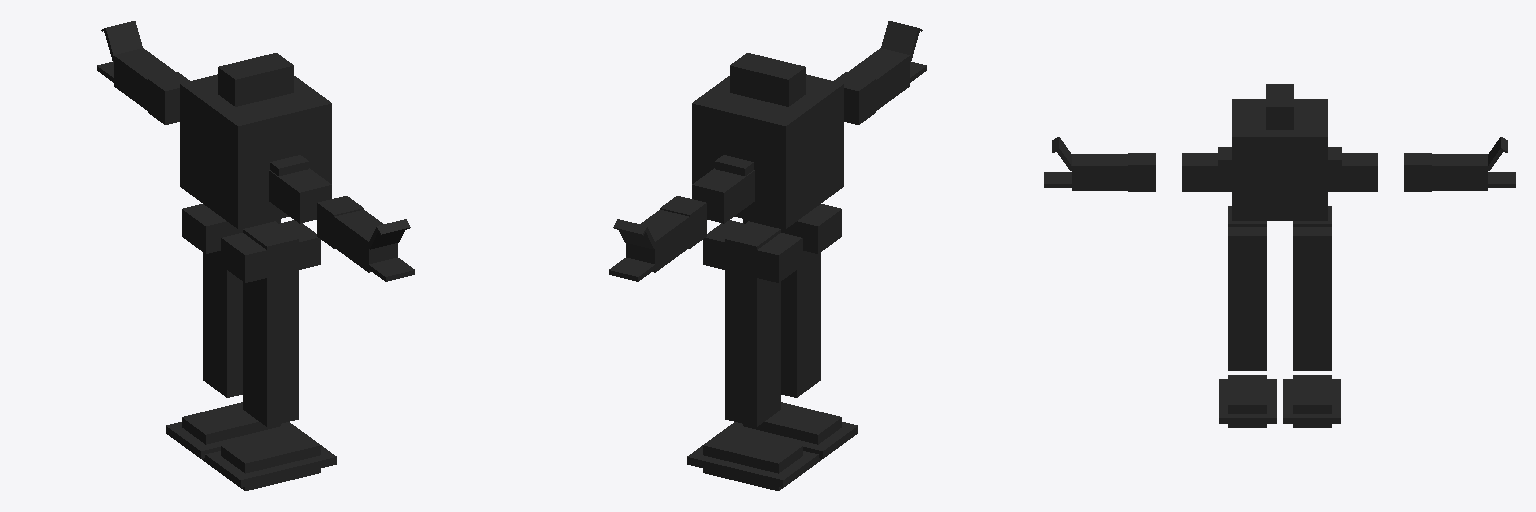
--- Render facts (derived) ---
The picture shows the robot from 3 angles, left to right: view 1: azimuth 30°, elevation 25°; view 2: azimuth 150°, elevation 25°; view 3: azimuth 270°, elevation 25°; orthographic projection.
Model automi with 31 links and 30 joints (24 revolute, 6 fixed), rooted at base_link, posed every joint at zero.
Links seen in each view (by area): view 1: MP_BODY, MP_TIBIA_R, MP_THIGH2_R, MP_TIBIA_L, MP_PELVIS_R, MP_ANKLE1_R, MP_HEAD, MP_ARM_HIGH_R, MP_ARM_GRIPPER_FIX_R, MP_ANKLE1_L, MP_ARM_GRIPPER_FIX_L, MP_ANKLE2_R (+9 smaller); view 2: MP_BODY, MP_TIBIA_L, MP_THIGH2_L, MP_TIBIA_R, MP_PELVIS_L, MP_ANKLE1_L, MP_HEAD, MP_ARM_HIGH_L, MP_ARM_GRIPPER_FIX_L, MP_ANKLE1_R, MP_ARM_GRIPPER_FIX_R, MP_ANKLE2_L (+9 smaller); view 3: MP_BODY, MP_TIBIA_L, MP_TIBIA_R, MP_ARM_GRIPPER_FIX_R, MP_ARM_GRIPPER_FIX_L, MP_THIGH2_L, MP_THIGH2_R, MP_ARM_HIGH_L, MP_ARM_HIGH_R, MP_ANKLE1_L, MP_ANKLE1_R, MP_HEAD (+6 smaller).
Link boxes in pixels (bbox=[...]): MP_BODY: bbox=[180, 74, 331, 228]; MP_TIBIA_R: bbox=[243, 320, 298, 426]; MP_THIGH2_R: bbox=[243, 221, 298, 336]; MP_TIBIA_L: bbox=[203, 291, 242, 397]; MP_PELVIS_R: bbox=[221, 220, 320, 282]; MP_ANKLE1_R: bbox=[221, 428, 320, 490]; MP_HEAD: bbox=[218, 53, 293, 106]; MP_ARM_HIGH_R: bbox=[269, 168, 331, 223]; MP_ARM_GRIPPER_FIX_R: bbox=[334, 210, 397, 272]; MP_ANKLE1_L: bbox=[182, 402, 280, 461]; MP_ARM_GRIPPER_FIX_L: bbox=[114, 48, 174, 110]; MP_ANKLE2_R: bbox=[205, 434, 336, 487]; MP_BODY: bbox=[692, 74, 843, 228]; MP_TIBIA_L: bbox=[725, 320, 780, 426]; MP_THIGH2_L: bbox=[725, 221, 780, 336]; MP_TIBIA_R: bbox=[781, 291, 820, 397]; MP_PELVIS_L: bbox=[703, 220, 802, 282]; MP_ANKLE1_L: bbox=[703, 428, 802, 490]; MP_HEAD: bbox=[730, 53, 805, 106]; MP_ARM_HIGH_L: bbox=[692, 168, 754, 223]; MP_ARM_GRIPPER_FIX_L: bbox=[626, 210, 689, 272]; MP_ANKLE1_R: bbox=[743, 402, 841, 461]; MP_ARM_GRIPPER_FIX_R: bbox=[849, 48, 909, 110]; MP_ANKLE2_L: bbox=[687, 434, 818, 487]; MP_BODY: bbox=[1232, 99, 1327, 220]; MP_TIBIA_L: bbox=[1293, 298, 1331, 370]; MP_TIBIA_R: bbox=[1228, 298, 1266, 370]; MP_ARM_GRIPPER_FIX_R: bbox=[1072, 154, 1127, 190]; MP_ARM_GRIPPER_FIX_L: bbox=[1432, 154, 1487, 190]; MP_THIGH2_L: bbox=[1293, 211, 1331, 297]; MP_THIGH2_R: bbox=[1228, 211, 1266, 297]; MP_ARM_HIGH_L: bbox=[1328, 153, 1377, 191]; MP_ARM_HIGH_R: bbox=[1182, 153, 1231, 191]; MP_ANKLE1_L: bbox=[1293, 375, 1331, 427]; MP_ANKLE1_R: bbox=[1228, 375, 1266, 427]; MP_HEAD: bbox=[1266, 84, 1293, 129].
Bounding box of the posed robot: 0.108 × 0.54 × 0.4037 m (x, y, z).
Geometry: primitives only (box / cylinder / sphere), no mesh files.

robot.urdf — automi:
<?xml version="1.0" ?>
<robot name="automi">


<link name="base_link"/>
  
  <joint name="base_link_to_body" type="fixed">
    <parent link="base_link"/>
    <child link="MP_BODY"/>
  </joint>



  <link name="MP_BODY">
    <inertial>
      <origin xyz="-0.003053 -0.038651 -0.019268" />
      <mass value="0.97559947"/>
      <inertia ixx="3.1081800"  ixy="-0.25460189"  ixz="2.0318174" iyy="6.3787776" iyz="0.16417863" izz="5.3316425" />
    </inertial>
    <visual>
      <!--origin xyz="-0.0235 0 -0.03525" rpy="0 0 0" /-->
      <origin xyz="0 0 0" rpy="0 0 0" />
      <geometry>
        <box size="0.102 0.109 0.106" />
        <!-- <mesh filename="package://automi_description/meshes/body.STL"  scale="1 1 1"/> -->
      </geometry>
      <material name="Grey">
        <color rgba="0.20 0.20 0.20 1.0"/>
      </material>
    </visual>
    <collision>
      <geometry>
        <box size="0.102 0.109 0.106" />
        <!-- <mesh filename="package://automi_description/meshes/body_coll.stl"  scale="1 1 1"/> -->
      </geometry>
    </collision>
  </link>

  <link name="MP_NECK">
    <inertial>
      <origin xyz="0.001424 -0.016567 -0.007128" />
      <mass value="0.024357719"/>
     <inertia ixx="0.0051411124"  ixy="-0.00057530255"  ixz="-0.000024729049" iyy="0.0081915737" iyz="-0.000019223094" izz="0.0011379812" />
    </inertial>
    <visual>
      <origin xyz="0 0 0" rpy="0 0 0" />
      <geometry>
        <box size="0.045 0.022 0.0325" />
        <!-- <mesh filename="package://automi_description/meshes/neck.STL"  scale="1 1 1"/> -->
      </geometry>
      <material name="Grey">
        <color rgba="0.20 0.20 0.20 1.0"/>
      </material>
    </visual>
    <collision>
      <geometry>
        <box size="0.045 0.022 0.0325" />
        <!-- <mesh filename="package://automi_description/meshes/neck_coll.stl"  scale="1 1 1"/> -->
      </geometry>
    </collision>
  </link>

  <link name="MP_HEAD">
    <inertial>
      <origin xyz="0.000064 -0.018565 -0.007667" />
      <mass value="0.15804192"/>
     <inertia ixx="0.1239683"  ixy="0.000078494368"  ixz="0.000007645979" iyy="0.11783781" iyz="0.0012199205" izz="0.1583601" />
    </inertial>
    <visual>
      <origin xyz="0 0 0" rpy="0 0 0" />
      <geometry>
        <box size="0.0634 0.061 0.033" />
        <!-- <mesh filename="package://automi_description/meshes/head.STL"  scale="1 1 1"/> -->
      </geometry>
      <material name="Grey">
        <color rgba="0.20 0.20 0.20 1.0"/>
      </material>
    </visual>
    <collision>
      <geometry>
        <box size="0.0634 0.061 0.033" />
        <!-- <mesh filename="package://automi_description/meshes/head_coll.stl"  scale="1 1 1"/> -->
      </geometry>
    </collision>
  </link>

  <link name="MP_BACK_L">
    <inertial>
      <origin xyz="-0.0031158909 0.020443695 -0.019663084" />
      <mass value="0.010"/>
      <inertia ixx="3.1081800"  ixy="-0.25460189"  ixz="2.0318174" iyy="6.3787776" iyz="0.16417863" izz="5.3316425" />
    </inertial>
    <visual>
      <origin xyz="0.0 0.0 0.0" rpy="0 0 0" />
      <geometry>
        <box size="0.001 0.001 0.001"  scale="1 1 1"/>
      </geometry>
      <material name="Grey">
        <color rgba="0.20 0.20 0.20 1.0"/>
      </material>
    </visual>
    <collision>
      <geometry>
        <box size="0.001 0.001 0.001"  scale="1 1 1"/>
      </geometry>
    </collision>

  </link>

  <link name="MP_SHOULDER_L">
    <inertial>
      <origin xyz="-0.013522619 0.010264050 0.0013935747" />
      <mass value="0.025913024"/>
      <inertia ixx="0.0097758165"  ixy="0.0016911839"  ixz="-0.00045174329" iyx="0.0016911839" iyy="0.010511104" iyz="0.00033406955" izx="-0.00045174329" izy="0.00033406955" izz="0.005476798" />
    </inertial>
    
    <visual>
      <origin xyz="0 0 0" rpy="0 0 0" />
      <geometry>
        <box size="0.016 0.033 0.02165" />
        <!-- <mesh filename="package://automi_description/meshes/shoulder_l.STL"  scale="1 1 1"/> -->
      </geometry>
      <material name="Grey">
        <color rgba="0.20 0.20 0.20 1.0"/>
      </material>
    </visual>
    <collision>
      <geometry>
        <box size="0.016 0.033 0.02165" />
        <!-- <mesh filename="package://automi_description/meshes/shoulder_l_coll.stl"  scale="1 1 1"/> -->
      </geometry>
    </collision>
  </link>

  <link name="MP_ARM_HIGH_L" >
    <inertial>
      <origin xyz="-0.036239 0.000734 0.000660" />
      <mass value="0.16837715"/>
      <inertia ixx="0.12202839"  ixy="-0.0020812626"  ixz="-0.00088143449" iyx="-0.0020812626" iyy="0.038088441" iyz="0.0018251448" izx="-0.00088143449" izy="0.0018251448" izz="0.11340830" />
    </inertial>
    <visual>
      <origin xyz="0 0 0" rpy="0 0 0" />
      <geometry>
        <box size="0.06 0.032 0.035" />
        <!-- <mesh filename="package://automi_description/meshes/arm_high_l.STL"  scale="1 1 1"/> -->
      </geometry>
      <material name="Grey">
        <color rgba="0.20 0.20 0.20 1.0"/>
      </material>
    </visual>
    <collision>
      <geometry>
        <box size="0.06 0.032 0.035" />
        <!-- <mesh filename="package://automi_description/meshes/arm_high_l_coll.stl"  scale="1 1 1"/> -->
      </geometry>
    </collision>
  </link>

  <link name="MP_ARM_LOW_L" >
    <inertial>
      <origin xyz="0.000000 0.000000 0.000000"/>
      <mass value="0.059288504"/>
      <inertia ixx="0.086855267"  ixy="0.0053020311"  ixz="0.00043636051" iyx="0.0053020311" iyy="0.021192085" iyz="-0.0064855932" izx="0.00043636051" izy="-0.0064855932" izz="0.086845450" />
    </inertial>

    <visual>
      <origin xyz="0.016 0.016 0" rpy="0 0 0" />
      <geometry>
        <box size="0.032 0.032 0.035" />
      </geometry>
      <material name="Grey">
        <color rgba="0.20 0.20 0.20 1.0"/>
      </material>
    </visual>
    <collision>
      <origin xyz="0.016 0.016 0" rpy="0 0 0" />
      <geometry>
        <box size="0.032 0.032 0.035" />
      </geometry>
    </collision>
  </link>


 <link name="MP_ARM_GRIPPER_FIX_L" >
    <inertial>
      <origin xyz="0.045838 -0.013490 0.006666"/>
      <mass value="0.010"/>
      <inertia ixx="0.12202839"  ixy="-0.0020812626"  ixz="-0.00088143449" iyx="-0.0020812626" iyy="0.038088441" iyz="0.0018251448" izx="-0.00088143449" izy="0.0018251448" izz="0.11340830" />
    </inertial>
    <visual>
      <origin xyz="0.016 0 0" rpy="0 0 0" />
      <geometry>
        <box size="0.064 0.032 0.032" />
      </geometry>
      <material name="Grey">
        <color rgba="0.20 0.20 0.20 1.0"/>
      </material>
    </visual>
    <collision>
      <origin xyz="0.016 0 0" rpy="0 0 0" />
      <geometry>
        <box size="0.064 0.032 0.032" />
      </geometry>
    </collision>
  </link>

  <link name="MP_ARM_GRIPPER_FIX_DUMMY_L" >
    <inertial>
      <origin xyz="0 0 0"/>
      <mass value="0.010"/>
      <inertia ixx="0.12202839"  ixy="-0.0020812626"  ixz="-0.00088143449" iyx="-0.0020812626" iyy="0.038088441" iyz="0.0018251448" izx="-0.00088143449" izy="0.0018251448" izz="0.11340830" />
    </inertial> 
    <visual>
      <origin xyz="0 0 0" rpy="0 0 0" />
      <geometry>
        <box size="0.032 0.005 0.032" />
      </geometry>
      <material name="Grey">
        <color rgba="0.20 0.20 0.20 1.0"/>
      </material>
    </visual>
    <collision>
      <geometry>
        <box size="0.032 0.005 0.032" />
      </geometry>
    </collision>
  </link>

  <link name="MP_ARM_GRIPPER_MOV_L" >
    <inertial>
      <origin xyz="0.000000 0.000000 0.000000"/>
      <mass value="0.010"/>
      <inertia ixx="0.12202839"  ixy="-0.0020812626"  ixz="-0.00088143449" iyx="-0.0020812626" iyy="0.038088441" iyz="0.0018251448" izx="-0.00088143449" izy="0.0018251448" izz="0.11340830" />
    </inertial>
    <visual name="VIS_MP_ARM_GRIPPER_MOV_L">
      <origin xyz="0.016 0 0" rpy="0 0 0" />
      <geometry>
        <box size="0.032 0.005 0.032" />
      </geometry>
      <material name="Grey">
        <color rgba="0.20 0.20 0.20 1.0"/>
      </material>
    </visual>
    <collision name="COL_MP_ARM_GRIPPER_MOV_L">
      <origin xyz="0.016 0 0" rpy="0 0 0" />
      <geometry>
        <box size="0.032 0.005 0.032" />
      </geometry>
    </collision>

    <visual name="VIS_MP_ARM_GRIPPER_MOV_EXT_L">
      <origin xyz="0.031 -0.0025 0" rpy="0 0 0" />
      <geometry>
        <box size="0.002 0.01 0.032" />
      </geometry>
      <material name="Grey">
        <color rgba="0.20 0.20 0.20 1.0"/>
      </material>
    </visual>
    <collision name="COL_MP_ARM_GRIPPER_MOV_EXT_L">
      <origin xyz="0.031 -0.0025 0" rpy="0 0 0" />
      <geometry>
        <box size="0.002 0.01 0.032" />
      </geometry>
    </collision>


  </link>

  <link name="MP_BACK_R">
    <inertial>
      <origin xyz="0 0 0" />
      <mass value="0.010"/>
      <inertia ixx="3.1081800"  ixy="-0.25460189"  ixz="2.0318174" iyy="6.3787776" iyz="0.16417863" izz="5.3316425" />
    </inertial>
    
    <visual>
      <origin xyz="0.0 0.0 0.0" rpy="0 0 0" />
      <geometry>
        <box size="0.001 0.001 0.001" />
      </geometry>
      <material name="Grey">
        <color rgba="0.20 0.20 0.20 1.0"/>
      </material>
    </visual>
    <collision>
      <geometry>
        <box size="0.001 0.001 0.001" />
      </geometry>
    </collision>
    
  </link>

  <link name="MP_SHOULDER_R" >
    <inertial>
      <origin xyz="-0.013523 0.010264 0.001394" />
      <mass value="0.025913024"/>
      <inertia ixx="0.0097758165"  ixy="0.0016911839"  ixz="-0.00045174329" iyx="0.0016911839" iyy="0.010511104" iyz="0.00033406955" izx="-0.00045174329" izy="0.00033406955" izz="0.005476798" />
    </inertial>
    <visual>
      <origin xyz="0 0 0" rpy="0 0 3.14" />
      <geometry>
        <box size="0.016 0.033 0.02165" />
        <!-- <mesh filename="package://automi_description/meshes/shoulder_r.STL"  scale="1 1 1"/> -->
      </geometry>
      <material name="Grey">
        <color rgba="0.20 0.20 0.20 1.0"/>
      </material>
    </visual>
    <collision>
      <origin xyz="0 0 0" rpy="0 0 3.14" />
      <geometry>
        <box size="0.016 0.033 0.02165" />
        <!-- <mesh filename="package://automi_description/meshes/shoulder_r_coll.stl"  scale="1 1 1"/> -->
      </geometry>
    </collision>
  </link>

  <link name="MP_ARM_HIGH_R" >
    <inertial>
      <origin xyz="-0.036239 0.000734 -0.000660" />
      <mass value="0.16837715"/>
      <inertia ixx="0.12202839"  ixy="-0.0020812626"  ixz="-0.00088143449" iyx="-0.0020812626" iyy="0.038088441" iyz="0.0018251448" izx="-0.00088143449" izy="0.0018251448" izz="0.11340830" />
    </inertial>
    <visual>
      <origin xyz="0 0 0" rpy="3.14 0 0" />
      <geometry>
        <box size="0.06 0.032 0.035"/>
        <!-- <mesh filename="package://automi_description/meshes/arm_high_r.STL"  scale="1 1 1"/> -->
      </geometry>
      <material name="Grey">
        <color rgba="0.20 0.20 0.20 1.0"/>
      </material>
    </visual>
    <collision>
      <geometry>
        <box size="0.06 0.032 0.035"/>
        <!-- <mesh filename="package://automi_description/meshes/arm_high_r_coll.stl"  scale="1 1 1"/> -->
      </geometry>
    </collision>
  </link>

  <link name="MP_ARM_LOW_R" >
    <inertial>
      <origin xyz="0.000000 0.000000 0.000000" />
      <mass value="0.059288504"/>
      <inertia ixx="0.086855267"  ixy="0.0053020311"  ixz="0.00043636051" iyx="0.0053020311" iyy="0.021192085" iyz="-0.0064855932" izx="0.00043636051" izy="-0.0064855932" izz="0.086845450" />
    </inertial>

    <visual>
      <origin xyz="0.016 -0.016 0" rpy="0 0 0" />
      <geometry>
        <box size="0.032 0.032 0.035" />
      </geometry>
      <material name="Grey">
        <color rgba="0.20 0.20 0.20 1.0"/>
      </material>
    </visual>
    <collision>
      <origin xyz="0.016 -0.016 0" rpy="0 0 0" />
      <geometry>
        <box size="0.032 0.032 0.035" />
      </geometry>
    </collision>
  </link>

  <link name="MP_ARM_GRIPPER_FIX_R" >
    <inertial>
      <origin xyz="0.045838 -0.013490 0.006666"/>
      <mass value="0.010"/>
      <inertia ixx="0.12202839"  ixy="-0.0020812626"  ixz="-0.00088143449" iyx="-0.0020812626" iyy="0.038088441" iyz="0.0018251448" izx="-0.00088143449" izy="0.0018251448" izz="0.11340830" />
    </inertial>
    <visual>
      <origin xyz="0.016 0 0" rpy="0 0 0" />
      <geometry>
        <box size="0.064 0.032 0.032" />
      </geometry>
      <material name="Grey">
        <color rgba="0.20 0.20 0.20 1.0"/>
      </material>
    </visual>
    <collision>
      <origin xyz="0.016 0 0" rpy="0 0 0" />
      <geometry>
        <box size="0.064 0.032 0.032" />
      </geometry>
    </collision>
  </link>

  <link name="MP_ARM_GRIPPER_FIX_DUMMY_R" >
    <inertial>
      <origin xyz="0 0 0"/>
      <mass value="0.010"/>
      <inertia ixx="0.12202839"  ixy="-0.0020812626"  ixz="-0.00088143449" iyx="-0.0020812626" iyy="0.038088441" iyz="0.0018251448" izx="-0.00088143449" izy="0.0018251448" izz="0.11340830" />
    </inertial> 
    <visual>
      <origin xyz="0 0 0" rpy="0 0 0" />
      <geometry>
        <box size="0.032 0.005 0.032" />
      </geometry>
      <material name="Grey">
        <color rgba="0.20 0.20 0.20 1.0"/>
      </material>
    </visual>
    <collision>
      <geometry>
        <box size="0.032 0.005 0.032" />
      </geometry>
    </collision>
  </link>

  <link name="MP_ARM_GRIPPER_MOV_R" >
    <inertial>
      <origin xyz="0.000000 0.000000 0.000000"/>
      <mass value="0.010"/>
      <inertia ixx="0.12202839"  ixy="-0.0020812626"  ixz="-0.00088143449" iyx="-0.0020812626" iyy="0.038088441" iyz="0.0018251448" izx="-0.00088143449" izy="0.0018251448" izz="0.11340830" />
    </inertial>
    <visual name="VIS_MP_ARM_GRIPPER_MOV_R">
      <origin xyz="0.016 0 0" rpy="0 0 0" />
      <geometry>
        <box size="0.032 0.005 0.032" />
      </geometry>
      <material name="Grey">
        <color rgba="0.20 0.20 0.20 1.0"/>
      </material>
    </visual>
    <collision name="COL_MP_ARM_GRIPPER_MOV_R">
      <origin xyz="0.016 0 0" rpy="0 0 0" />
      <geometry>
        <box size="0.032 0.005 0.032" />
      </geometry>
    </collision>

    <visual name="VIS_MP_ARM_GRIPPER_MOV_EXT_R">
      <origin xyz="0.031 -0.0025 0" rpy="0 0 0" />
      <geometry>
        <box size="0.002 0.01 0.032" />
      </geometry>
      <material name="Grey">
        <color rgba="0.20 0.20 0.20 1.0"/>
      </material>
    </visual>
    <collision name="COL_MP_ARM_GRIPPER_MOV_EXT_R">
      <origin xyz="0.031 -0.0025 0" rpy="0 0 0" />
      <geometry>
        <box size="0.002 0.01 0.032" />
      </geometry>
    </collision>


  </link>

  <link name="MP_PELVIS_L" >
    <inertial>
      <origin xyz="0.000000 0.000480 0.018437" />
      <mass value="0.167"/>
      <inertia ixx="0.12259691"  ixy="0.00071127469"  ixz="0.00081143913" iyx="0.00071127469" iyy="0.11066637" iyz="-0.0071635476" izx="0.00081143913" izy="-0.0071635476" izz="0.041877668" />
    </inertial>
    <visual>
      <origin xyz="0 0 0" rpy="0 0 0" />
      <geometry>
        <box size="0.045 0.08175 0.028652" />
        <!-- <mesh filename="package://automi_description/meshes/pelvis_l.STL"  scale="1 1 1"/> -->
      </geometry>
      <material name="Grey">
        <color rgba="0.20 0.20 0.20 1.0"/>
      </material>
    </visual>
    <collision>
      <geometry>
        <box size="0.045 0.08175 0.028652" />
        <!-- <mesh filename="package://automi_description/meshes/pelvis_l_coll.stl"  scale="1 1 1"/> -->
      </geometry>
    </collision>
  </link>

  <link name="MP_THIGH1_L" >
    <inertial>
      <origin xyz="0.000079 0.018242 0.013873" />
      <mass value="0.11904336"/>
      <inertia ixx="0.097950272"  ixy="0.0012119368"  ixz="-0.00021223016" iyx="0.00122119368" iyy="0.032848287" iyz="-0.0019474021" izx="-0.00021223016" izy="-0.0019474021" izz="0.11493509" />
    </inertial>
    <visual>
      <origin xyz="0 0 0" rpy="0 0 0" />
      <geometry>
        <box size="0.001 0.001 0.001"/>
        <mesh filename="package://automi_description/meshes/thigh1_l.STL"  scale="1 1 1"/>
      </geometry>
      <material name="Grey">
        <color rgba="0.20 0.20 0.20 1.0"/>
      </material>
    </visual>
    <collision>
      <geometry>
        <box size="0.001 0.001 0.001"/>
        <!-- <mesh filename="package://automi_description/meshes/thigh1_l_coll.stl"  scale="1 1 1"/> -->
      </geometry>
    </collision>
  </link>

  <link name="MP_THIGH2_L" >
    <inertial>
      <origin xyz="-0.062965 -0.000323 0.000692" />
      <mass value="0.11904336"/>
      <inertia ixx="0.097950272"  ixy="0.0012119368"  ixz="-0.00021223016" iyx="0.00122119368" iyy="0.032848287" iyz="-0.0019474021" izx="-0.00021223016" izy="-0.0019474021" izz="0.11493509" />
    </inertial>
    <visual>
      <origin xyz="0 0 0" rpy="0 0 0" />
      <geometry>
        <box size="0.093 0.035 0.045"/>
        <!-- <mesh filename="package://automi_description/meshes/thigh2_l.STL"  scale="1 1 1"/> -->
      </geometry>
      <material name="Grey">
        <color rgba="0.20 0.20 0.20 1.0"/>
      </material>
    </visual>
    <collision>
      <geometry>
        <box size="0.093 0.035 0.045"/>
        <!-- <mesh filename="package://automi_description/meshes/thigh2_l_coll.stl"  scale="1 1 1"/> -->
      </geometry>
    </collision>
  </link>

  <link name="MP_TIBIA_L" >
    <inertial>
      <origin xyz="-0.053955 0.006548 -0.000592" />
      <mass value="0.070309794"/>
      <inertia ixx="0.093369608"  ixy="-0.00093567395"  ixz="-0.00023992085" iyx="-0.00093567395" iyy="0.046295534" iyz="-0.012858493" izx="-0.00023992085" izy="-0.012858493" izz="0.11351516" />
    </inertial>
    <visual>
      <origin xyz="0 0 0" rpy="0 0 0" />
      <geometry>
        <box size="0.093 0.035 0.045"/>
        <!-- <mesh filename="package://automi_description/meshes/tibia_l.STL"  scale="1 1 1"/> -->
      </geometry>
      <material name="Grey">
        <color rgba="0.20 0.20 0.20 1.0"/>
      </material>
    </visual>
    <collision>
      <geometry>
        <box size="0.093 0.035 0.045"/>
        <!-- <mesh filename="package://automi_description/meshes/tibia_l_coll.stl"  scale="1 1 1"/> -->
      </geometry>
    </collision>
  </link>

  <link name="MP_ANKLE1_L" >
    <inertial>
      <origin xyz="-0.000214 -0.018536 0.013873" />
      <mass value="0.16710792"/>
      <inertia ixx="0.12079175"  ixy="-0.00079781067"  ixz="-0.00039322246" iyx="-0.00079781067" iyy="0.10885465" iyz="0.0070770117" izx="-0.00039322246" izy="0.0070770117" izz="0.041871103" />
    </inertial>
    <visual>
      <origin xyz="0 0 0" rpy="0 0 0" />
      <geometry>
        <box size="0.028652 0.08175 0.045"/>
        <!-- <mesh filename="package://automi_description/meshes/ankle1_l.STL"  scale="1 1 1"/> -->
      </geometry>
      <material name="Grey">
        <color rgba="0.20 0.20 0.20 1.0"/>
      </material>
    </visual>
    <collision>
      <geometry>
        <box size="0.028652 0.08175 0.045"/>
        <!-- <mesh filename="package://automi_description/meshes/ankle1_l_coll.stl"  scale="1 1 1"/> -->
      </geometry>
    </collision>
  </link>

  <link name="MP_ANKLE2_L" >
    <inertial>
      <origin xyz="-0.025995 -0.009506 -0.000503" />
      <mass value="0.0794462"/>
      <inertia ixx="0.12079175"  ixy="-0.00079781067"  ixz="-0.00039322246" iyx="-0.00079781067" iyy="0.10885465" iyz="0.0070770117" izx="-0.00039322246" izy="0.0070770117" izz="0.041871103" />
    </inertial>
    <visual>
      <origin xyz="0 0 0" rpy="0 0 0" />
      <geometry>
        <box size="0.008 0.066 0.104"/>
        <!-- <mesh filename="package://automi_description/meshes/ankle2_l.STL"  scale="1 1 1"/> -->
      </geometry>
      <material name="Grey">
        <color rgba="0.20 0.20 0.20 1.0"/>
      </material>
    </visual>
    <collision>
      <geometry>
        <box size="0.008 0.066 0.104"/>
        <!-- <mesh filename="package://automi_description/meshes/ankle2_l_coll.stl"  scale="1 1 1"/> -->
      </geometry>
    </collision>
  </link>

  <link name="MP_PELVIS_R" >
    <inertial>
      <origin xyz="0.000000 0.000480 0.018437" />
      <mass value="0.197"/>
      <inertia ixx="0.12259691"  ixy="0.00071127469"  ixz="0.00081143913" iyx="0.00071127469" iyy="0.11066637" iyz="-0.0071635476" izx="0.00081143913" izy="-0.0071635476" izz="0.041877668" />
    </inertial>
    <visual>
      <origin xyz="0 0 0" rpy="0 0 0" />
      <geometry>
        <box size="0.045 0.08175 0.028652" />
        <!-- <mesh filename="package://automi_description/meshes/pelvis_r.STL"  scale="1 1 1"/> -->
      </geometry>
      <material name="Grey">
        <color rgba="0.20 0.20 0.20 1.0"/>
      </material>
    </visual>
    <collision>
      <geometry>
        <box size="0.045 0.08175 0.028652" />
        <!-- <mesh filename="package://automi_description/meshes/pelvis_r_coll.stl"  scale="1 1 1"/> -->
      </geometry>
    </collision>
  </link>

  <link name="MP_THIGH1_R" >
    <inertial>
      <origin xyz="0.000079 -0.018242 0.0138735" />
      <mass value="0.11904336"/>
      <inertia ixx="0.097950272"  ixy="0.0012119368"  ixz="-0.00021223016" iyx="0.00122119368" iyy="0.032848287" iyz="-0.0019474021" izx="-0.00021223016" izy="-0.0019474021" izz="0.11493509" />
    </inertial>
    <visual>
      <origin xyz="0 0 0" rpy="0 0 0" />
      <geometry>
        <box size="0.001 0.001 0.001"/>
        <!-- <mesh filename="package://automi_description/meshes/thigh1_r.STL"  scale="1 1 1"/> -->
      </geometry>
      <material name="Grey">
        <color rgba="0.20 0.20 0.20 1.0"/>
      </material>
    </visual>
    <collision>
      <geometry>
        <box size="0.001 0.001 0.001"/>
        <!-- <mesh filename="package://automi_description/meshes/thigh1_r_coll.stl"  scale="1 1 1"/> -->
      </geometry>
    </collision>

  </link>

  <link name="MP_THIGH2_R" >
    <inertial>
      <origin xyz="0.062965 -0.000323 0.000692" />
      <mass value="0.11904336"/>
      <inertia ixx="0.097950272"  ixy="0.0012119368"  ixz="-0.00021223016" iyx="0.00122119368" iyy="0.032848287" iyz="-0.0019474021" izx="-0.00021223016" izy="-0.0019474021" izz="0.11493509" />
    </inertial>
    <visual>
      <origin xyz="0 0 0" rpy="0 0 0" />
      <geometry>
        <box size="0.093 0.035 0.045"/>
        <!-- <mesh filename="package://automi_description/meshes/thigh2_r.STL"  scale="1 1 1"/> -->
      </geometry>
      <material name="Grey">
        <color rgba="0.20 0.20 0.20 1.0"/>
      </material>
    </visual>
    <collision>
      <geometry>
        <box size="0.093 0.035 0.045"/>
        <!-- <mesh filename="package://automi_description/meshes/thigh2_r_coll.stl"  scale="1 1 1"/> -->
      </geometry>
    </collision>

  </link>

  <link name="MP_TIBIA_R" >
    <inertial>
      <origin xyz="0.053955 0.006548 -0.000592" />
      <mass value="0.070309794"/>
      <inertia ixx="0.093369608"  ixy="-0.00093567395"  ixz="-0.00023992085" iyx="-0.00093567395" iyy="0.046295534" iyz="-0.012858493" izx="-0.00023992085" izy="-0.012858493" izz="0.11351516" />
    </inertial>
    <visual>
      <origin xyz="0 0 0" rpy="0 0 0" />
      <geometry>
        <box size="0.093 0.035 0.045"/>
        <!-- <mesh filename="package://automi_description/meshes/tibia_r.STL"  scale="1 1 1"/> -->
      </geometry>
      <material name="Grey">
        <color rgba="0.20 0.20 0.20 1.0"/>
      </material>
    </visual>
    <collision>
      <geometry>
        <box size="0.093 0.035 0.045"/>
        <!-- <mesh filename="package://automi_description/meshes/tibia_r_coll.stl"  scale="1 1 1"/> -->
      </geometry>
    </collision>

  </link>

  <link name="MP_ANKLE1_R" >
    <inertial>
      <origin xyz="-0.000214 -0.018536 -0.013873" />
      <mass value="0.16710792"/>
      <inertia ixx="0.12079175"  ixy="-0.00079781067"  ixz="-0.00039322246" iyx="-0.00079781067" iyy="0.10885465" iyz="0.0070770117" izx="-0.00039322246" izy="0.0070770117" izz="0.041871103" />
    </inertial>
    <visual>
      <origin xyz="0 0 0" rpy="0 0 0" />
      <geometry>
        <box size="0.028652 0.08175 0.045"/>
        <!-- <mesh filename="package://automi_description/meshes/ankle1_r.STL"  scale="1 1 1"/> -->
      </geometry>
      <material name="Grey">
        <color rgba="0.20 0.20 0.20 1.0"/>
      </material>
    </visual>
    <collision>
      <geometry>
        <box size="0.028652 0.08175 0.045"/>
        <!-- <mesh filename="package://automi_description/meshes/ankle1_r_coll.stl"  scale="1 1 1"/> -->
      </geometry>
    </collision>

  </link>

  <link name="MP_ANKLE2_R" >
    <inertial>
      <origin xyz="0.025995 -0.009506 -0.000503" />
      <mass value="0.0794462"/>
      <inertia ixx="0.12079175"  ixy="-0.00079781067"  ixz="-0.00039322246" iyx="-0.00079781067" iyy="0.10885465" iyz="0.0070770117" izx="-0.00039322246" izy="0.0070770117" izz="0.041871103" />
    </inertial>
    <visual>
      <origin xyz="0 0 0" rpy="0 0 0" />
      <geometry>
        <box size="0.008 0.066 0.104"/>
        <!-- <mesh filename="package://automi_description/meshes/ankle2_r.STL"  scale="1 1 1"/> -->
      </geometry>
      <material name="Grey">
        <color rgba="0.20 0.20 0.20 1.0"/>
      </material>
    </visual>
    <collision>
      <geometry>
        <box size="0.008 0.066 0.104"/>
        <!-- <mesh filename="package://automi_description/meshes/ankle2_r_coll.stl"  scale="1 1 1"/> -->
      </geometry>
    </collision>

  </link>
  
  <link name="MP_PMDCAMBOARD" >
    <!--
    <visual>
      <origin xyz="0 0 0" rpy="0 0 0" />
      <geometry>
        <box size="0.032 0.005 0.032" />
      </geometry>
      <material name="Grey">
        <color rgba="0.20 0.20 0.20 1.0"/>
      </material>
    </visual>
    -->
  </link>
  
  <joint name="j_camboard" type="fixed">
  <parent link="MP_HEAD"/>
  <child link="MP_PMDCAMBOARD"/>
  <origin xyz="0 0 0.0235" rpy="3.14159 1.5707963 0" />
  <axis xyz="0 0 1" />
  <limit effort="2.8" velocity="5.6548668" lower="-2.6179939" upper="2.6179939" />
  </joint>
  
  <joint name="j_pan" type="revolute">
    <parent link="MP_BODY"/>
    <child link="MP_NECK"/>
    <origin xyz="0 0 0.0235" rpy="0 0 1.5707963" />
    <axis xyz="0 0 1" />
    <limit effort="2.8" velocity="5.6548668" lower="-2.6179939" upper="2.6179939" />
  </joint>

  <joint name="j_tilt" type="revolute">
    <parent link="MP_NECK"/>
    <child link="MP_HEAD"/>
    <origin xyz="0 0 0.02715" rpy="-1.5707963 0 1.5707963" />
    <axis xyz="0 0 1" />
    <limit effort="2.8" velocity="5.6548668" lower="-2.6179939" upper="2.6179939" />
  </joint>

  <joint name="j_back_l" type="fixed">
    <parent link="MP_BODY"/>
    <child link="MP_BACK_L"/>
    <origin xyz="0 0.06035 0" rpy="-1.5707963 0 0" />
    <limit effort="2.8" velocity="5.6548668" lower="-2.6179939" upper="2.6179939" />
  </joint>

  <joint name="j_shoulder_l" type="revolute">
    <parent link="MP_BACK_L"/>
    <child link="MP_SHOULDER_L"/>
    <origin xyz="0 0 0" rpy="0 0 -1.5707963" />
    <axis xyz="0 0 1" />
    <limit effort="2.8" velocity="5.6548668" lower="-2.6179939" upper="2.6179939" />
  </joint>

  <joint name="j_high_arm_l" type="revolute">
    <parent link="MP_SHOULDER_L"/>
    <child link="MP_ARM_HIGH_L"/>
    <origin xyz="-0.016 0 0.02165" rpy="1.5707963 1.5707963 0" />
    <axis xyz="0 0 1" />
    <limit effort="2.8" velocity="5.648668" lower="-2.6179939" upper="2.6179939" />
  </joint>

  <joint name="j_low_arm_l" type="revolute">
    <parent link="MP_ARM_HIGH_L"/>
    <child link="MP_ARM_LOW_L"/>
    <origin xyz="-0.06 0 -0.016" rpy="-1.5707963 3.14159 0" />
    <axis xyz="0 0 1" />
    <limit effort="2.8" velocity="5.6548668" lower="-2.6179939" upper="2.6179939" />
  </joint>

  <joint name="j_wrist_l" type="revolute">
    <parent link="MP_ARM_LOW_L"/>
    <child link="MP_ARM_GRIPPER_FIX_L"/>
    <origin xyz="0.048 0.016 0" rpy="1.5707963 0 0" />
    <axis xyz="0 0 1" />
    <limit effort="2.8" velocity="5.6548668" lower="-2.6179939" upper="2.6179939" />
  </joint>

  <joint name="j_wrist_dummy_l" type="fixed">
    <parent link="MP_ARM_GRIPPER_FIX_L"/>
    <child link="MP_ARM_GRIPPER_FIX_DUMMY_L"/>
    <origin xyz="0.064 -0.01 0" rpy="0 0 0" />
  </joint>

  <joint name="j_gripper_l" type="revolute">
    <parent link="MP_ARM_GRIPPER_FIX_L"/>
    <child link="MP_ARM_GRIPPER_MOV_L"/>
    <origin xyz="0.048 0.01 0" rpy="0 0 1.0" />
    <axis xyz="0 0 1" />
    <limit effort="2.8" velocity="5.6548668" lower="-2.6179939" upper="2.6179939" />
  </joint>

  <joint name="j_back_r" type="fixed">
    <parent link="MP_BODY"/>
    <child link="MP_BACK_R"/>
    <origin xyz="0 -0.06035 0" rpy="1.5707963 0 0" />
    <limit effort="2.8" velocity="5.6548668" lower="-2.6179939" upper="2.6179939" />
  </joint>

  <joint name="j_shoulder_r" type="revolute">
    <parent link="MP_BACK_R"/>
    <child link="MP_SHOULDER_R"/>
    <origin xyz="0 0 0" rpy="0 0 -1.5707963" />
    <axis xyz="0 0 1" />
    <limit effort="2.8" velocity="5.6548668" lower="-2.6179939" upper="2.6179939" />
  </joint>

  <joint name="j_high_arm_r" type="revolute">
    <parent link="MP_SHOULDER_R"/>
    <child link="MP_ARM_HIGH_R"/>
    <origin xyz="0.016 0 0.02165" rpy="-1.5707963 1.5707963 0" />
    <axis xyz="0 0 1" />
    <limit effort="2.8" velocity="5.648668" lower="-2.6179939" upper="2.6179939" />
  </joint>

  <joint name="j_low_arm_r" type="revolute">
    <parent link="MP_ARM_HIGH_R"/>
    <child link="MP_ARM_LOW_R"/>
    <origin xyz="-0.06 0 0.016" rpy="-1.5707963 3.14159 0" />
    <axis xyz="0 0 1" />
    <limit effort="2.8" velocity="5.6548668" lower="-1.635" upper="2.6179939" />
  </joint>

  <joint name="j_wrist_r" type="revolute">
    <parent link="MP_ARM_LOW_R"/>
    <child link="MP_ARM_GRIPPER_FIX_R"/>
    <origin xyz="0.048 -0.016 0" rpy="1.5707963 0 0" />
    <axis xyz="0 0 1" />
    <limit effort="2.8" velocity="5.6548668" lower="-2.6179939" upper="2.6179939" />
  </joint>

  <joint name="j_wrist_dummy_r" type="fixed">
    <parent link="MP_ARM_GRIPPER_FIX_R"/>
    <child link="MP_ARM_GRIPPER_FIX_DUMMY_R"/>
    <origin xyz="0.064 -0.01 0" rpy="0 0 0" />
  </joint>

  <joint name="j_gripper_r" type="revolute">
    <parent link="MP_ARM_GRIPPER_FIX_R"/>
    <child link="MP_ARM_GRIPPER_MOV_R"/>
    <origin xyz="0.048 0.01 0" rpy="0 0 1.0" />
    <axis xyz="0 0 1" />
    <limit effort="2.8" velocity="5.6548668" lower="-2.6179939" upper="2.6179939" />
  </joint>

  <joint name="j_pelvis_l" type="revolute">
    <parent link="MP_BODY"/>
    <child link="MP_PELVIS_L"/>
    <origin xyz="-0.005 0.037 -0.09355" rpy="0 3.14159 -1.5707963" />
    <axis xyz="0 0 1" />
    <limit effort="10" velocity="5.6548668" lower="-2.6179939" upper="2.6179939" />
  </joint>

  <joint name="j_thigh1_l" type="revolute">
    <parent link="MP_PELVIS_L"/>
    <child link="MP_THIGH1_L"/>
    <origin xyz="0 0 0.028652" rpy="1.5707963 0 0" />
    <axis xyz="0 0 1" />
    <limit effort="10" velocity="5.6548668" lower="-2.6179939" upper="2.6179939" />
  </joint>

  <joint name="j_thigh2_l" type="revolute">
    <parent link="MP_THIGH1_L"/>
    <child link="MP_THIGH2_L"/>
    <origin xyz="0 0 0" rpy="1.5707963 0 -1.5707963" />
    <axis xyz="0 0 1" />
    <limit effort="10" velocity="5.6548668" lower="-2.6179939" upper="2.6179939" />
  </joint>

  <joint name="j_tibia_l" type="revolute">
    <parent link="MP_THIGH2_L"/>
    <child link="MP_TIBIA_L"/>
    <origin xyz="-0.093 0 0" rpy="0 0 0" />
    <axis xyz="0 0 1" />
    <limit effort="10" velocity="5.6548668" lower="-2.6179939" upper="2.6179939" />
  </joint>

  <joint name="j_ankle1_l" type="revolute">
    <parent link="MP_TIBIA_L"/>
    <child link="MP_ANKLE1_L"/>
    <origin xyz="-0.093 0 0" rpy="3.14159 0 0" />
    <axis xyz="0 0 1" />
    <limit effort="10" velocity="5.6548668" lower="-2.6179939" upper="2.6179939" />
  </joint>

  <joint name="j_ankle2_l" type="revolute">
    <parent link="MP_ANKLE1_L"/>
    <child link="MP_ANKLE2_L"/>
    <origin xyz="0 0 0" rpy="-1.5707963 0 0" />
    <axis xyz="0 0 1" />
    <limit effort="10" velocity="5.6548668" lower="-2.6179939" upper="2.6179939" />
  </joint>

  <joint name="j_pelvis_r" type="revolute">
    <parent link="MP_BODY"/>
    <child link="MP_PELVIS_R"/>
    <origin xyz="-0.005 -0.037 -0.09355" rpy="0 3.14159 1.5707963" />
    <axis xyz="0 0 1" />
    <limit effort="10" velocity="5.6548668" lower="-2.6179939" upper="2.6179939" />
  </joint>

  <joint name="j_thigh1_r" type="revolute">
    <parent link="MP_PELVIS_R"/>
    <child link="MP_THIGH1_R"/>
    <origin xyz="0 0 0.028652" rpy="-1.5707963 0 0" />
    <axis xyz="0 0 1" />
    <limit effort="10" velocity="5.6548668" lower="-2.6179939" upper="2.6179939" />
  </joint>

  <joint name="j_thigh2_r" type="revolute">
    <parent link="MP_THIGH1_R"/>
    <child link="MP_THIGH2_R"/>
    <origin xyz="0 0 0" rpy="1.5707963 0 -1.5707963" />
    <axis xyz="0 0 1" />
    <limit effort="10" velocity="5.6548668" lower="-2.6179939" upper="2.6179939" />
  </joint>

  <joint name="j_tibia_r" type="revolute">
    <parent link="MP_THIGH2_R"/>
    <child link="MP_TIBIA_R"/>
    <origin xyz="0.093 0 0" rpy="0 0 0" />
    <axis xyz="0 0 1" />
    <limit effort="10" velocity="5.6548668" lower="-2.6179939" upper="2.6179939" />
  </joint>

  <joint name="j_ankle1_r" type="revolute">
    <parent link="MP_TIBIA_R"/>
    <child link="MP_ANKLE1_R"/>
    <origin xyz="0.093 0 0" rpy="3.14159 0 0" />
    <axis xyz="0 0 1" />
    <limit effort="10" velocity="5.6548668" lower="-2.6179939" upper="2.6179939" />
  </joint>

  <joint name="j_ankle2_r" type="revolute">
    <parent link="MP_ANKLE1_R"/>
    <child link="MP_ANKLE2_R"/>
    <origin xyz="0 0 0" rpy="-1.5707963 0 0" />
    <axis xyz="0 0 1" />
    <limit effort="10" velocity="5.6548668" lower="-2.6179939" upper="2.6179939" />
  </joint>
  
  <gazebo>
    <plugin filename="libgazebo_ros_control.so" name="gazebo_ros_control">
      <robotNamespace>/automi</robotNamespace>
    </plugin>
  </gazebo>
  
  
  

   <transmission name="t_j_pan">
    <type>transmission_interface/SimpleTransmission</type>
    <joint name="j_pan">
        <hardwareInterface>EffortJointInterface</hardwareInterface>
    </joint>
    <actuator name="m_j_pan">
      <hardwareInterface>EffortJointInterface</hardwareInterface>
      <mechanicalReduction>1</mechanicalReduction>
    </actuator>
  </transmission>
  
  
   <transmission name="t_j_tilt">
    <type>transmission_interface/SimpleTransmission</type>
    <joint name="j_tilt">
        <hardwareInterface>EffortJointInterface</hardwareInterface>
    </joint>
    <actuator name="m_j_tilt">
      <hardwareInterface>EffortJointInterface</hardwareInterface>
      <mechanicalReduction>1</mechanicalReduction>
    </actuator>
  </transmission>
  
  
   <transmission name="t_j_shoulder_l">
    <type>transmission_interface/SimpleTransmission</type>
    <joint name="j_shoulder_l">
        <hardwareInterface>EffortJointInterface</hardwareInterface>
    </joint>
    <actuator name="m_j_shoulder_l">
      <hardwareInterface>EffortJointInterface</hardwareInterface>
      <mechanicalReduction>1</mechanicalReduction>
    </actuator>
  </transmission>
  
  
   <transmission name="t_j_high_arm_l">
    <type>transmission_interface/SimpleTransmission</type>
    <joint name="j_high_arm_l">
        <hardwareInterface>EffortJointInterface</hardwareInterface>
    </joint>
    <actuator name="m_j_high_arm_l">
      <hardwareInterface>EffortJointInterface</hardwareInterface>
      <mechanicalReduction>1</mechanicalReduction>
    </actuator>
  </transmission>
  
  
   <transmission name="t_j_low_arm_l">
    <type>transmission_interface/SimpleTransmission</type>
    <joint name="j_low_arm_l">
        <hardwareInterface>EffortJointInterface</hardwareInterface>
    </joint>
    <actuator name="m_j_low_arm_l">
      <hardwareInterface>EffortJointInterface</hardwareInterface>
      <mechanicalReduction>1</mechanicalReduction>
    </actuator>
  </transmission>
  
  
   <transmission name="t_j_wrist_l">
    <type>transmission_interface/SimpleTransmission</type>
    <joint name="j_wrist_l">
        <hardwareInterface>EffortJointInterface</hardwareInterface>
    </joint>
    <actuator name="m_j_wrist_l">
      <hardwareInterface>EffortJointInterface</hardwareInterface>
      <mechanicalReduction>1</mechanicalReduction>
    </actuator>
  </transmission>
  
  
   <transmission name="t_j_gripper_l">
    <type>transmission_interface/SimpleTransmission</type>
    <joint name="j_gripper_l">
        <hardwareInterface>EffortJointInterface</hardwareInterface>
    </joint>
    <actuator name="m_j_gripper_l">
      <hardwareInterface>EffortJointInterface</hardwareInterface>
      <mechanicalReduction>1</mechanicalReduction>
    </actuator>
  </transmission>
  
  
   <transmission name="t_j_shoulder_r">
    <type>transmission_interface/SimpleTransmission</type>
    <joint name="j_shoulder_r">
        <hardwareInterface>EffortJointInterface</hardwareInterface>
    </joint>
    <actuator name="m_j_shoulder_r">
      <hardwareInterface>EffortJointInterface</hardwareInterface>
      <mechanicalReduction>1</mechanicalReduction>
    </actuator>
  </transmission>
  
  
   <transmission name="t_j_high_arm_r">
    <type>transmission_interface/SimpleTransmission</type>
    <joint name="j_high_arm_r">
        <hardwareInterface>EffortJointInterface</hardwareInterface>
    </joint>
    <actuator name="m_j_high_arm_r">
      <hardwareInterface>EffortJointInterface</hardwareInterface>
      <mechanicalReduction>1</mechanicalReduction>
    </actuator>
  </transmission>
  
  
   <transmission name="t_j_low_arm_r">
    <type>transmission_interface/SimpleTransmission</type>
    <joint name="j_low_arm_r">
        <hardwareInterface>EffortJointInterface</hardwareInterface>
    </joint>
    <actuator name="m_j_low_arm_r">
      <hardwareInterface>EffortJointInterface</hardwareInterface>
      <mechanicalReduction>1</mechanicalReduction>
    </actuator>
  </transmission>
  
  
   <transmission name="t_j_wrist_r">
    <type>transmission_interface/SimpleTransmission</type>
    <joint name="j_wrist_r">
        <hardwareInterface>EffortJointInterface</hardwareInterface>
    </joint>
    <actuator name="m_j_wrist_r">
      <hardwareInterface>EffortJointInterface</hardwareInterface>
      <mechanicalReduction>1</mechanicalReduction>
    </actuator>
  </transmission>
  
  
   <transmission name="t_j_gripper_r">
    <type>transmission_interface/SimpleTransmission</type>
    <joint name="j_gripper_r">
        <hardwareInterface>EffortJointInterface</hardwareInterface>
    </joint>
    <actuator name="m_j_gripper_r">
      <hardwareInterface>EffortJointInterface</hardwareInterface>
      <mechanicalReduction>1</mechanicalReduction>
    </actuator>
  </transmission>
  
  
   <transmission name="t_j_pelvis_l">
    <type>transmission_interface/SimpleTransmission</type>
    <joint name="j_pelvis_l">
        <hardwareInterface>EffortJointInterface</hardwareInterface>
    </joint>
    <actuator name="m_j_pelvis_l">
      <hardwareInterface>EffortJointInterface</hardwareInterface>
      <mechanicalReduction>1</mechanicalReduction>
    </actuator>
  </transmission>
  
  
   <transmission name="t_j_thigh1_l">
    <type>transmission_interface/SimpleTransmission</type>
    <joint name="j_thigh1_l">
        <hardwareInterface>EffortJointInterface</hardwareInterface>
    </joint>
    <actuator name="m_j_thigh1_l">
      <hardwareInterface>EffortJointInterface</hardwareInterface>
      <mechanicalReduction>1</mechanicalReduction>
    </actuator>
  </transmission>
  
  
   <transmission name="t_j_thigh2_l">
    <type>transmission_interface/SimpleTransmission</type>
    <joint name="j_thigh2_l">
        <hardwareInterface>EffortJointInterface</hardwareInterface>
    </joint>
    <actuator name="m_j_thigh2_l">
      <hardwareInterface>EffortJointInterface</hardwareInterface>
      <mechanicalReduction>1</mechanicalReduction>
    </actuator>
  </transmission>
  
  
   <transmission name="t_j_tibia_l">
    <type>transmission_interface/SimpleTransmission</type>
    <joint name="j_tibia_l">
        <hardwareInterface>EffortJointInterface</hardwareInterface>
    </joint>
    <actuator name="m_j_tibia_l">
      <hardwareInterface>EffortJointInterface</hardwareInterface>
      <mechanicalReduction>1</mechanicalReduction>
    </actuator>
  </transmission>
  
  
   <transmission name="t_j_ankle1_l">
    <type>transmission_interface/SimpleTransmission</type>
    <joint name="j_ankle1_l">
        <hardwareInterface>EffortJointInterface</hardwareInterface>
    </joint>
    <actuator name="m_j_ankle1_l">
      <hardwareInterface>EffortJointInterface</hardwareInterface>
      <mechanicalReduction>1</mechanicalReduction>
    </actuator>
  </transmission>
  
  
   <transmission name="t_j_ankle2_l">
    <type>transmission_interface/SimpleTransmission</type>
    <joint name="j_ankle2_l">
        <hardwareInterface>EffortJointInterface</hardwareInterface>
    </joint>
    <actuator name="m_j_ankle2_l">
      <hardwareInterface>EffortJointInterface</hardwareInterface>
      <mechanicalReduction>1</mechanicalReduction>
    </actuator>
  </transmission>
  
  
   <transmission name="t_j_pelvis_r">
    <type>transmission_interface/SimpleTransmission</type>
    <joint name="j_pelvis_r">
        <hardwareInterface>EffortJointInterface</hardwareInterface>
    </joint>
    <actuator name="m_j_pelvis_r">
      <hardwareInterface>EffortJointInterface</hardwareInterface>
      <mechanicalReduction>1</mechanicalReduction>
    </actuator>
  </transmission>
  
  
   <transmission name="t_j_thigh1_r">
    <type>transmission_interface/SimpleTransmission</type>
    <joint name="j_thigh1_r">
        <hardwareInterface>EffortJointInterface</hardwareInterface>
    </joint>
    <actuator name="m_j_thigh1_r">
      <hardwareInterface>EffortJointInterface</hardwareInterface>
      <mechanicalReduction>1</mechanicalReduction>
    </actuator>
  </transmission>
  
  
   <transmission name="t_j_thigh2_r">
    <type>transmission_interface/SimpleTransmission</type>
    <joint name="j_thigh2_r">
        <hardwareInterface>EffortJointInterface</hardwareInterface>
    </joint>
    <actuator name="m_j_thigh2_r">
      <hardwareInterface>EffortJointInterface</hardwareInterface>
      <mechanicalReduction>1</mechanicalReduction>
    </actuator>
  </transmission>
  
  
   <transmission name="t_j_tibia_r">
    <type>transmission_interface/SimpleTransmission</type>
    <joint name="j_tibia_r">
        <hardwareInterface>EffortJointInterface</hardwareInterface>
    </joint>
    <actuator name="m_j_tibia_r">
      <hardwareInterface>EffortJointInterface</hardwareInterface>
      <mechanicalReduction>1</mechanicalReduction>
    </actuator>
  </transmission>
  
  
   <transmission name="t_j_ankle1_r">
    <type>transmission_interface/SimpleTransmission</type>
    <joint name="j_ankle1_r">
        <hardwareInterface>EffortJointInterface</hardwareInterface>
    </joint>
    <actuator name="m_j_ankle1_r">
      <hardwareInterface>EffortJointInterface</hardwareInterface>
      <mechanicalReduction>1</mechanicalReduction>
    </actuator>
  </transmission>
  
  
   <transmission name="t_j_ankle2_r">
    <type>transmission_interface/SimpleTransmission</type>
    <joint name="j_ankle2_r">
        <hardwareInterface>EffortJointInterface</hardwareInterface>
    </joint>
    <actuator name="m_j_ankle2_r">
      <hardwareInterface>EffortJointInterface</hardwareInterface>
      <mechanicalReduction>1</mechanicalReduction>
    </actuator>
  </transmission>





<gazebo reference="MP_BODY">
    
    
    <material>Gazebo/Grey</material>
    
  </gazebo>



<gazebo reference="MP_NECK">
    
    
    <material>Gazebo/Grey</material>
    
  </gazebo>



<gazebo reference="MP_HEAD">
    
    
    <material>Gazebo/Grey</material>
    
  </gazebo>



<gazebo reference="MP_BACK_L">
    
    
    <material>Gazebo/Grey</material>
    
  </gazebo>



<gazebo reference="MP_SHOULDER_L">
    
    
    <material>Gazebo/Grey</material>
    
  </gazebo>



<gazebo reference="MP_ARM_HIGH_L">
    
    
    <material>Gazebo/Grey</material>
    
  </gazebo>



<gazebo reference="MP_ARM_LOW_L">
    
    
    <material>Gazebo/Grey</material>
    
  </gazebo>



<gazebo reference="MP_ARM_GRIPPER_FIX_L">
    
    
    <material>Gazebo/Grey</material>
    
  </gazebo>



<gazebo reference="MP_ARM_GRIPPER_FIX_DUMMY_L">
    
    
    <material>Gazebo/Grey</material>
    
  </gazebo>



<gazebo reference="MP_ARM_GRIPPER_MOV_L">
    
    
    <material>Gazebo/Grey</material>
    
  </gazebo>



<gazebo reference="MP_BACK_R">
    
    
    <material>Gazebo/Grey</material>
    
  </gazebo>



<gazebo reference="MP_SHOULDER_R">
    
    
    <material>Gazebo/Grey</material>
    
  </gazebo>



<gazebo reference="MP_ARM_HIGH_R">
    
    
    <material>Gazebo/Grey</material>
    
  </gazebo>



<gazebo reference="MP_ARM_LOW_R">
    
    
    <material>Gazebo/Grey</material>
    
  </gazebo>



<gazebo reference="MP_ARM_GRIPPER_FIX_R">
    
    
    <material>Gazebo/Grey</material>
    
  </gazebo>



<gazebo reference="MP_ARM_GRIPPER_FIX_DUMMY_R">
    
    
    <material>Gazebo/Grey</material>
    
  </gazebo>



<gazebo reference="MP_ARM_GRIPPER_MOV_R">
    
    
    <material>Gazebo/Grey</material>
    
  </gazebo>



<gazebo reference="MP_PELVIS_L">
    
    
    <material>Gazebo/Grey</material>
    
  </gazebo>



<gazebo reference="MP_THIGH1_L">
    
    
    <material>Gazebo/Grey</material>
    
  </gazebo>



<gazebo reference="MP_THIGH2_L">
    
    
    <material>Gazebo/Grey</material>
    
  </gazebo>



<gazebo reference="MP_TIBIA_L">
    
    
    <material>Gazebo/Grey</material>
    
  </gazebo>



<gazebo reference="MP_ANKLE1_L">
    
    
    <material>Gazebo/Grey</material>
    
  </gazebo>



<gazebo reference="MP_ANKLE2_L">
    
    
    <material>Gazebo/Grey</material>    

    <mu1>9000</mu1>
    <mu2>9000</mu2>
    <kp>1000000.0</kp>
    <kd>10.0</kd>
    <minDepth>0.001</minDepth>
    <maxContacts>1</maxContacts>    
  </gazebo>



<gazebo reference="MP_PELVIS_R">
    
    
    <material>Gazebo/Grey</material>
    
  </gazebo>



<gazebo reference="MP_THIGH1_R">
    
    
    <material>Gazebo/Grey</material>
    
  </gazebo>



<gazebo reference="MP_THIGH2_R">
    
    
    <material>Gazebo/Grey</material>
    
  </gazebo>



<gazebo reference="MP_TIBIA_R">
    
    
    <material>Gazebo/Grey</material>
    
  </gazebo>



<gazebo reference="MP_ANKLE1_R">
    
    
    <material>Gazebo/Grey</material>
    
  </gazebo>



<gazebo reference="MP_ANKLE2_R">
    
    
    <material>Gazebo/Grey</material>
    

    <mu1>9000</mu1>
    <mu2>9000</mu2>
    <kp>1000000.0</kp>
    <kd>10.0</kd>
    <minDepth>0.001</minDepth>
    <maxContacts>1</maxContacts>    
  </gazebo>



<gazebo reference="MP_PMDCAMBOARD">
    
    
    <material>Gazebo/Grey</material>
    
  </gazebo>



<gazebo reference="">
    
    
    <material>Gazebo/Grey</material>
    
  </gazebo>


<gazebo reference="MP_HEAD">
        <sensor name='camera' type='camera'>
          <pose>-0.050000 -0.010000 0.000000 -1.5708 0.000000 -3.141592</pose>
          <camera name='__default__'>
            <horizontal_fov>1.012300</horizontal_fov>
            <image>
              <width>320</width>
              <height>200</height>
            </image>
            <clip>
              <near>0.001000</near>
              <far>100.000000</far>
            </clip>
          </camera>
          <always_on>1</always_on>
          <update_rate>30.000000</update_rate>
          <visualize>1</visualize>
          <plugin name="camera_controller" filename="libgazebo_ros_camera.so">
            <alwaysOn>true</alwaysOn>
            <updateRate>30</updateRate>
            <cameraName>automi/camera</cameraName>
            <imageTopicName>image_raw</imageTopicName>
            <cameraInfoTopicName>camera_info</cameraInfoTopicName>
            <frameName>camera_link</frameName>
            <hackBaseline>0.07</hackBaseline>
            <distortionK1>0.0</distortionK1>
            <distortionK2>0.0</distortionK2>
            <distortionK3>0.0</distortionK3>
            <distortionT1>0.0</distortionT1>
            <distortionT2>0.0</distortionT2>
          </plugin>        
      </sensor>
</gazebo>


      <gazebo>
        <plugin filename="libhector_gazebo_ros_imu.so" name="gazebo_ros_imu">
          <bodyName>MP_BODY</bodyName>
          <updateRate>50</updateRate>
          <serviceName>/automi/imu_service</serviceName>
          <topicName>/automi/imu</topicName>
          <gaussianNoise>0</gaussianNoise>
          <xyzOffset>0 0 0</xyzOffset>
          <rpyOffset>0 0 -0.703220730592</rpyOffset>
        </plugin>     
      </gazebo>  

</robot>
